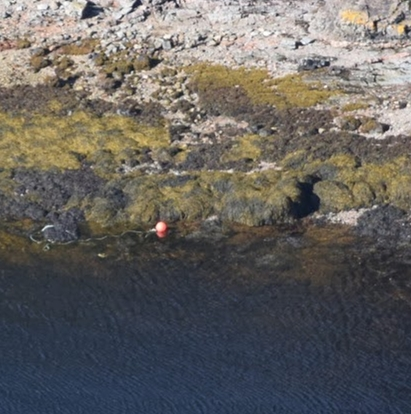white_in_green: (133, 201, 186, 246)
